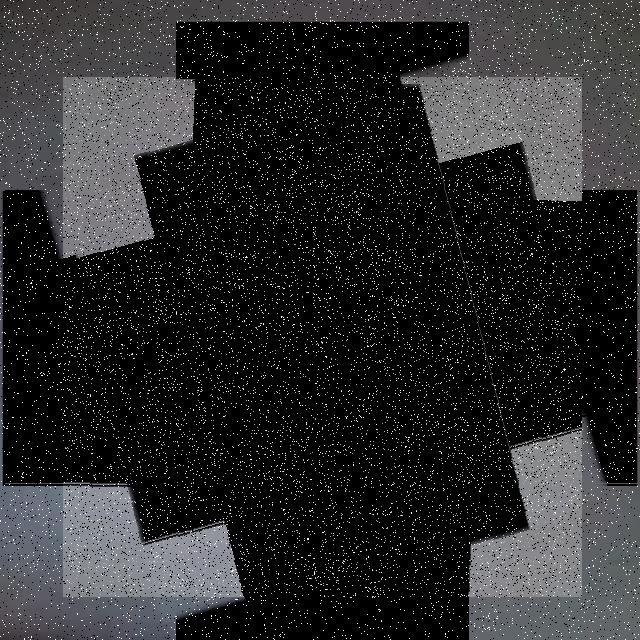lima puluh ribu rupiah: (63, 77, 582, 597)
